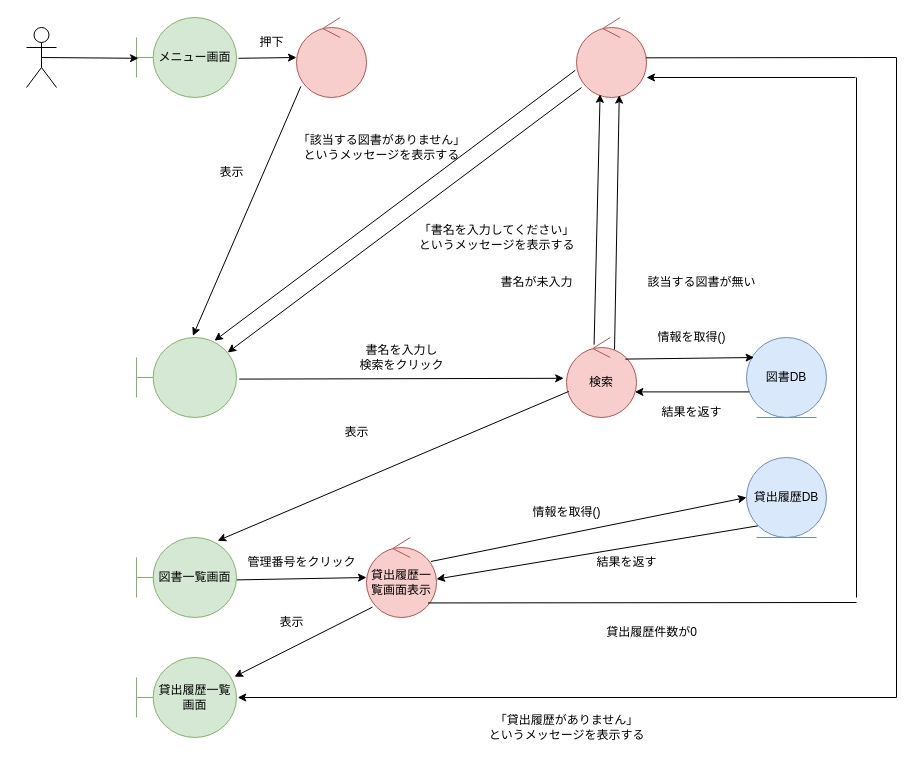
The diagram is 922 pixels wide and 765 high, and some of its shapes have lost their labels. Each missing label, with the box of its shape:
エラー処理: (576, 16, 646, 98)
事務職員: (26, 26, 56, 88)
貸出履歴検索画面: (136, 336, 236, 418)
貸出履歴検索画面表示: (296, 16, 366, 98)
